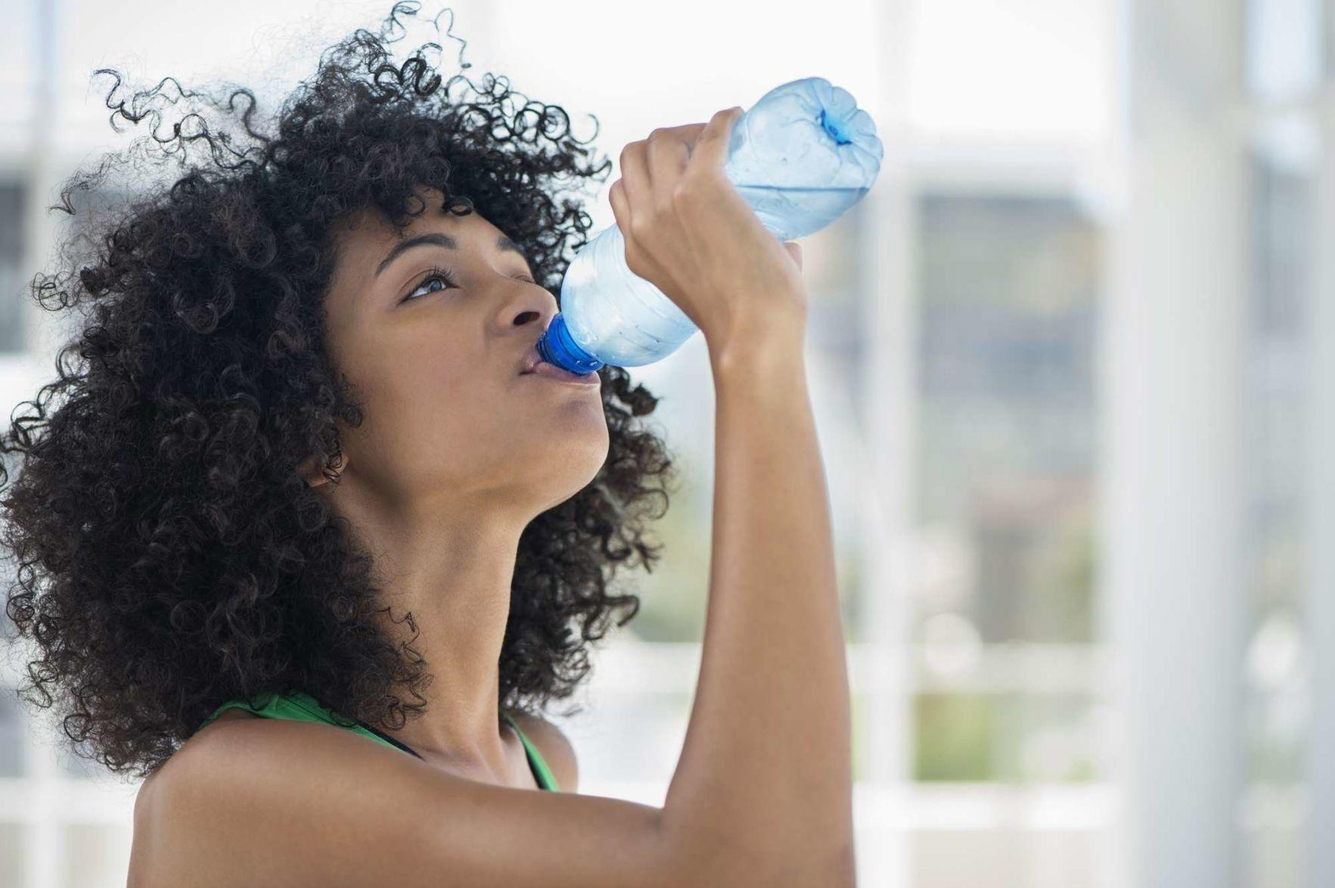bottle-plastic: (545, 75, 882, 374)
